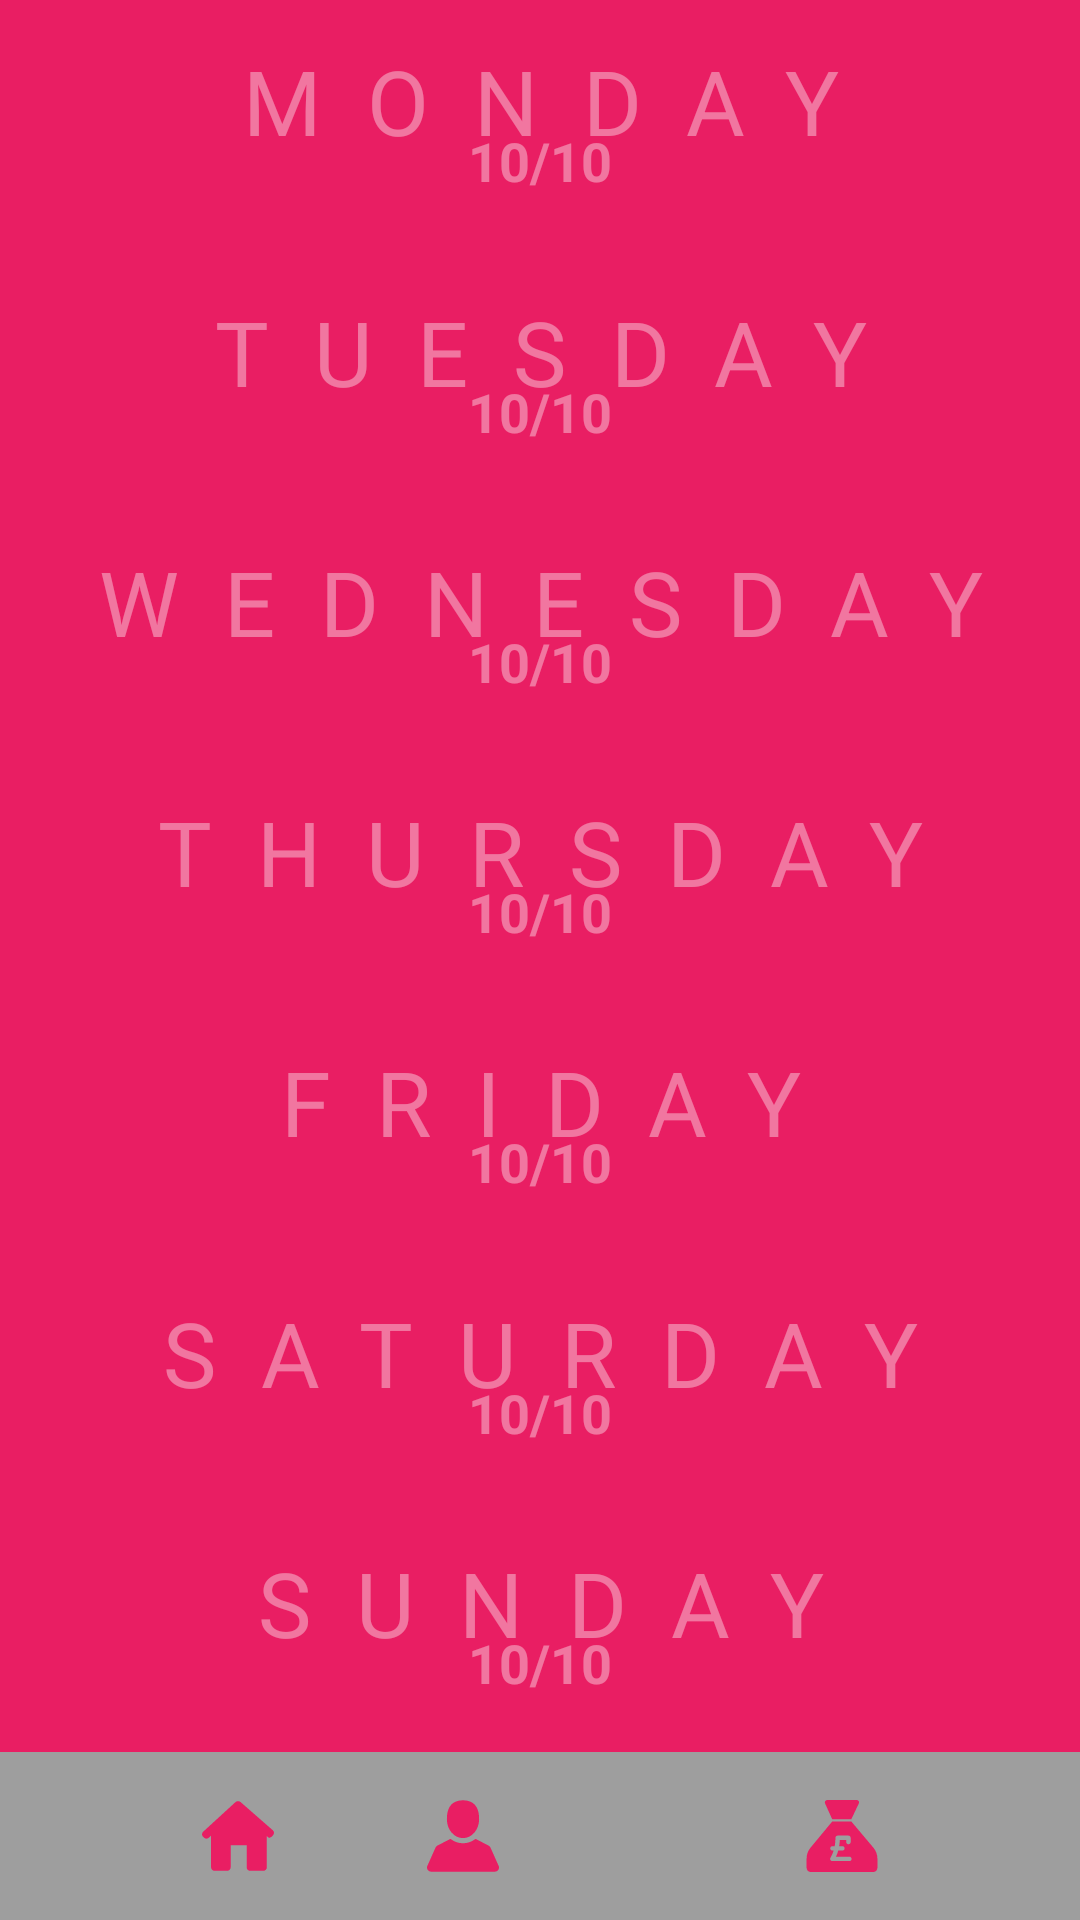

Named icons in this screenshot (1080w x 1920h) and their centers, point (x, y):
home: point (238, 1836)
money: point (842, 1836)
person: point (463, 1836)
